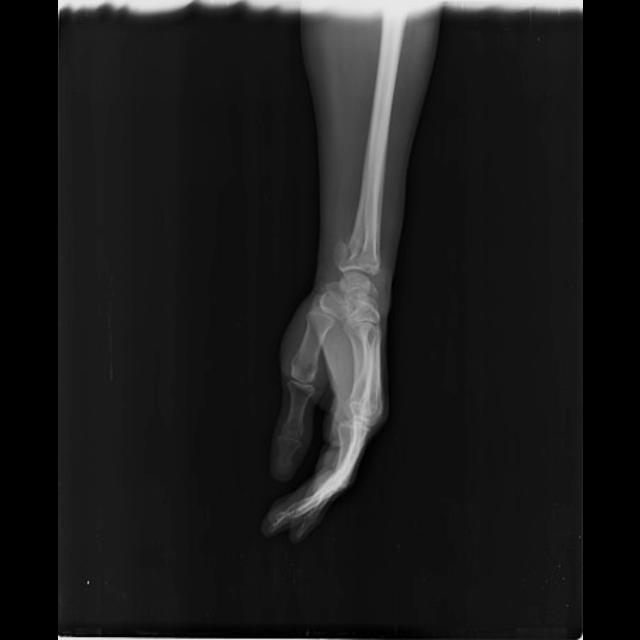Fracture: (326, 235, 362, 272)
